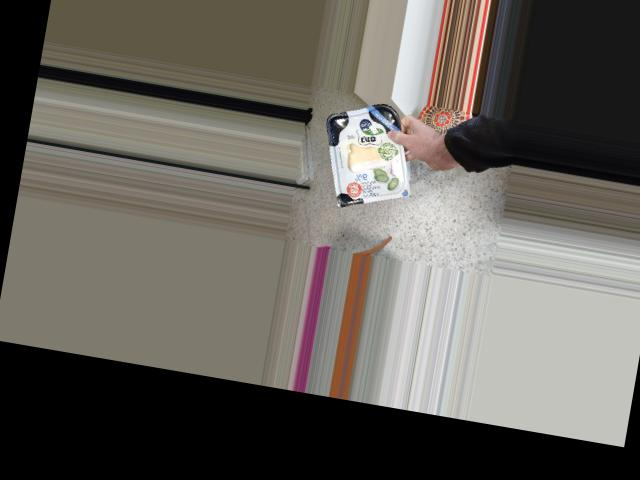cheese: (327, 106, 408, 203)
